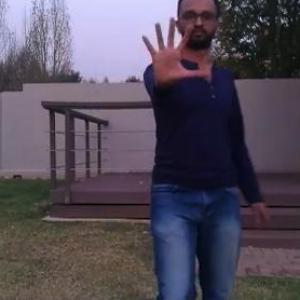follow_hand: (137, 12, 212, 87)
